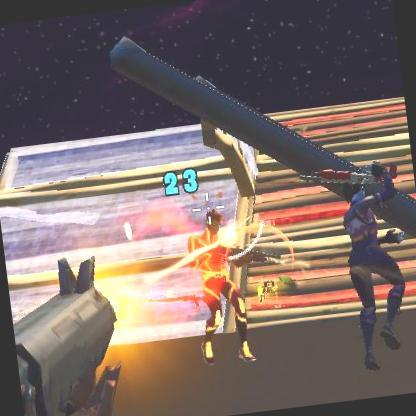Person: (53, 196, 145, 380)
person: (332, 164, 416, 370), (186, 209, 257, 358)
